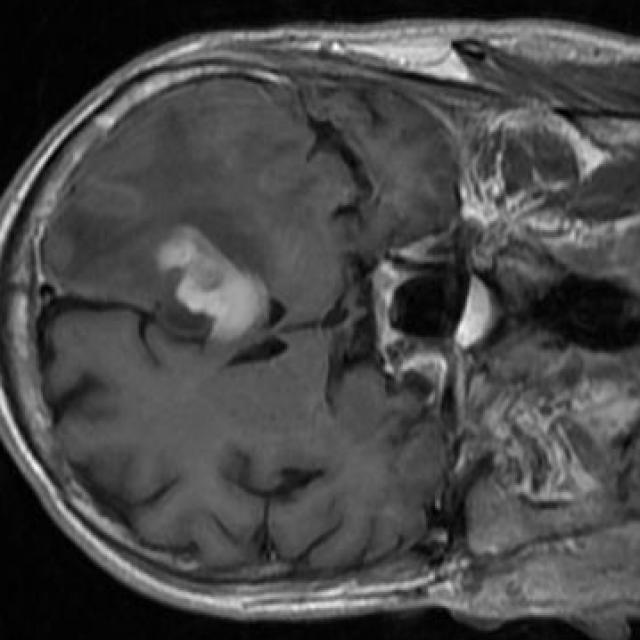glioma: (46, 119, 314, 339)
